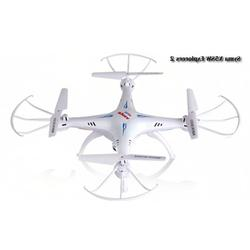drone: (9, 53, 242, 203)
